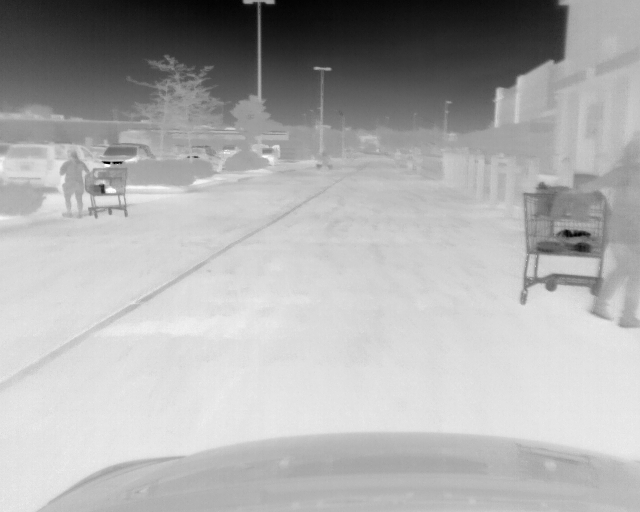car: (2, 143, 104, 193), (102, 143, 158, 168), (175, 144, 222, 169), (255, 147, 278, 165), (219, 143, 240, 158)
people: (580, 126, 640, 329), (58, 150, 91, 216)
